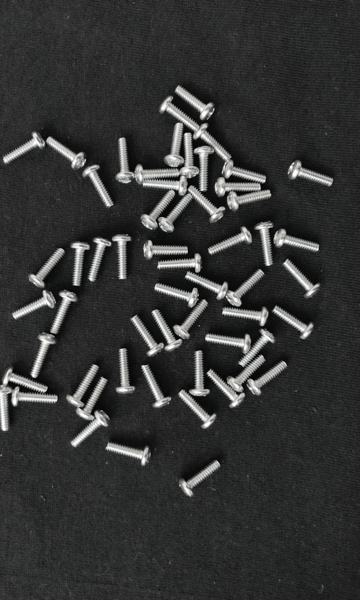shortscrew: (179, 461, 223, 498), (179, 390, 218, 431), (207, 370, 247, 409), (82, 165, 117, 209), (70, 411, 111, 448), (284, 259, 321, 300), (247, 361, 289, 397), (227, 269, 266, 307), (28, 248, 65, 288), (273, 304, 314, 340), (3, 131, 47, 164), (228, 356, 266, 394), (194, 124, 232, 162), (187, 186, 226, 223), (240, 328, 276, 368), (174, 299, 210, 339), (175, 85, 216, 120), (153, 308, 185, 352), (131, 317, 165, 358), (141, 190, 175, 231), (46, 137, 88, 170), (76, 378, 108, 421), (142, 365, 173, 409), (185, 271, 229, 302), (68, 364, 99, 407), (12, 290, 56, 320), (208, 226, 253, 255), (158, 195, 192, 233), (2, 367, 48, 395), (50, 290, 78, 336), (159, 97, 198, 130), (288, 160, 334, 187), (30, 332, 56, 379), (153, 283, 200, 309), (227, 189, 273, 214), (222, 159, 267, 184), (106, 443, 152, 467), (275, 228, 319, 253), (88, 238, 112, 283), (193, 146, 215, 192), (205, 334, 252, 355), (114, 349, 135, 395), (190, 351, 211, 397), (159, 253, 205, 274), (221, 307, 269, 327), (214, 177, 262, 197), (255, 221, 276, 266), (114, 233, 134, 280), (116, 138, 136, 185), (164, 123, 184, 169), (10, 387, 58, 406), (143, 177, 190, 196), (135, 165, 181, 184), (181, 133, 200, 179), (144, 241, 189, 260), (72, 241, 90, 287), (0, 385, 13, 431)
